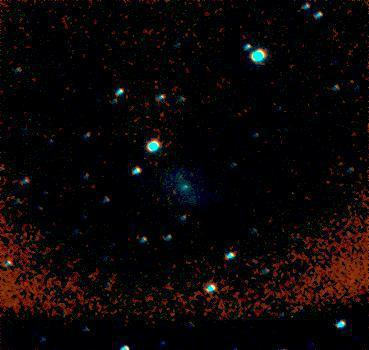star: (259, 90, 289, 120)
